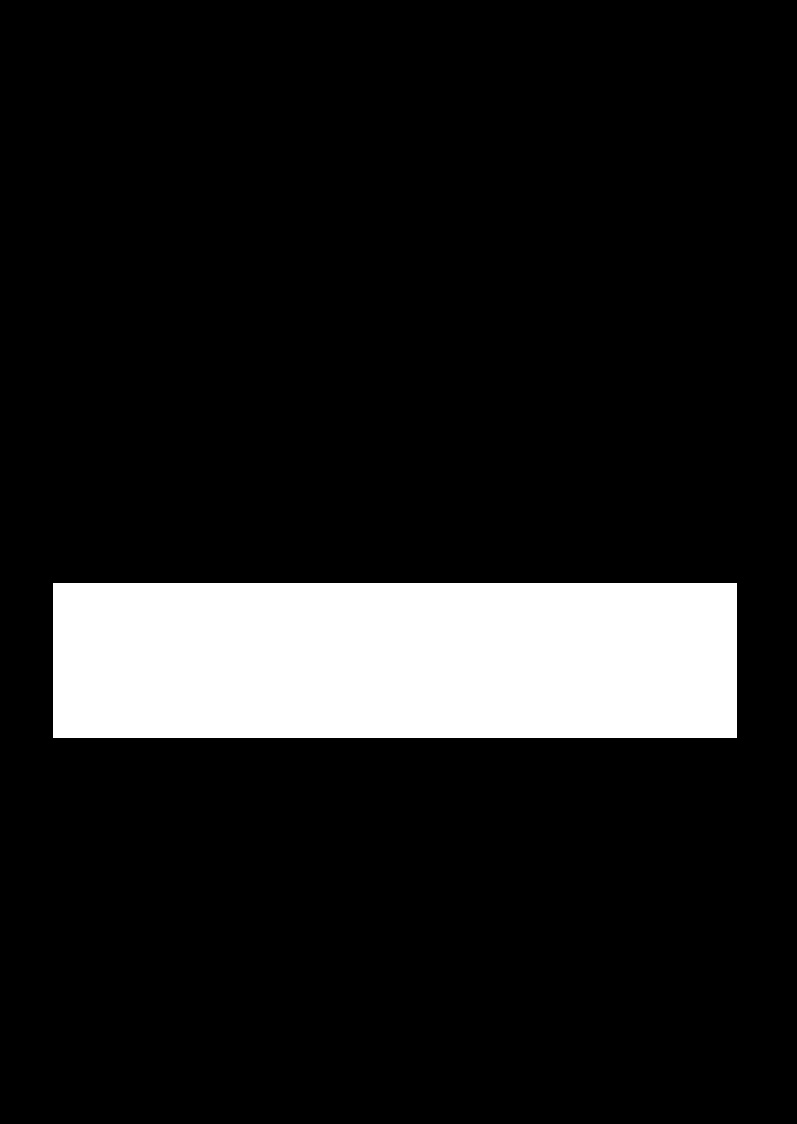table: (53, 583, 736, 737)
